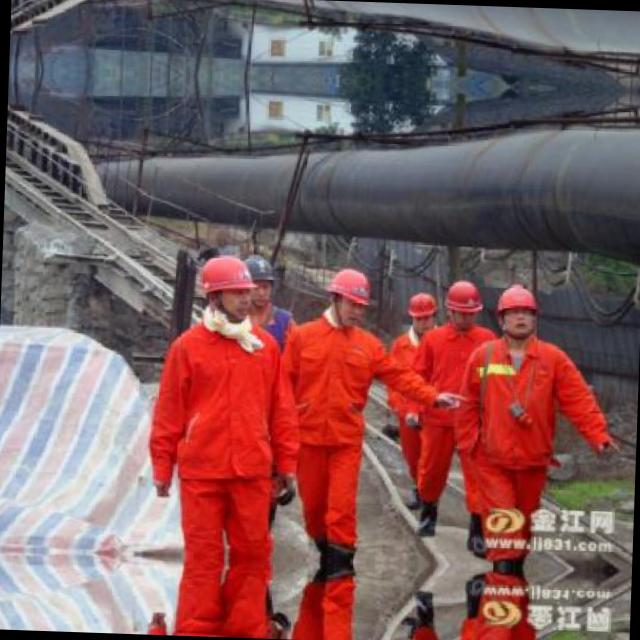helmet: (194, 252, 256, 326), (322, 266, 378, 328), (494, 282, 542, 341), (242, 250, 281, 308), (440, 276, 480, 328), (404, 285, 441, 331)
